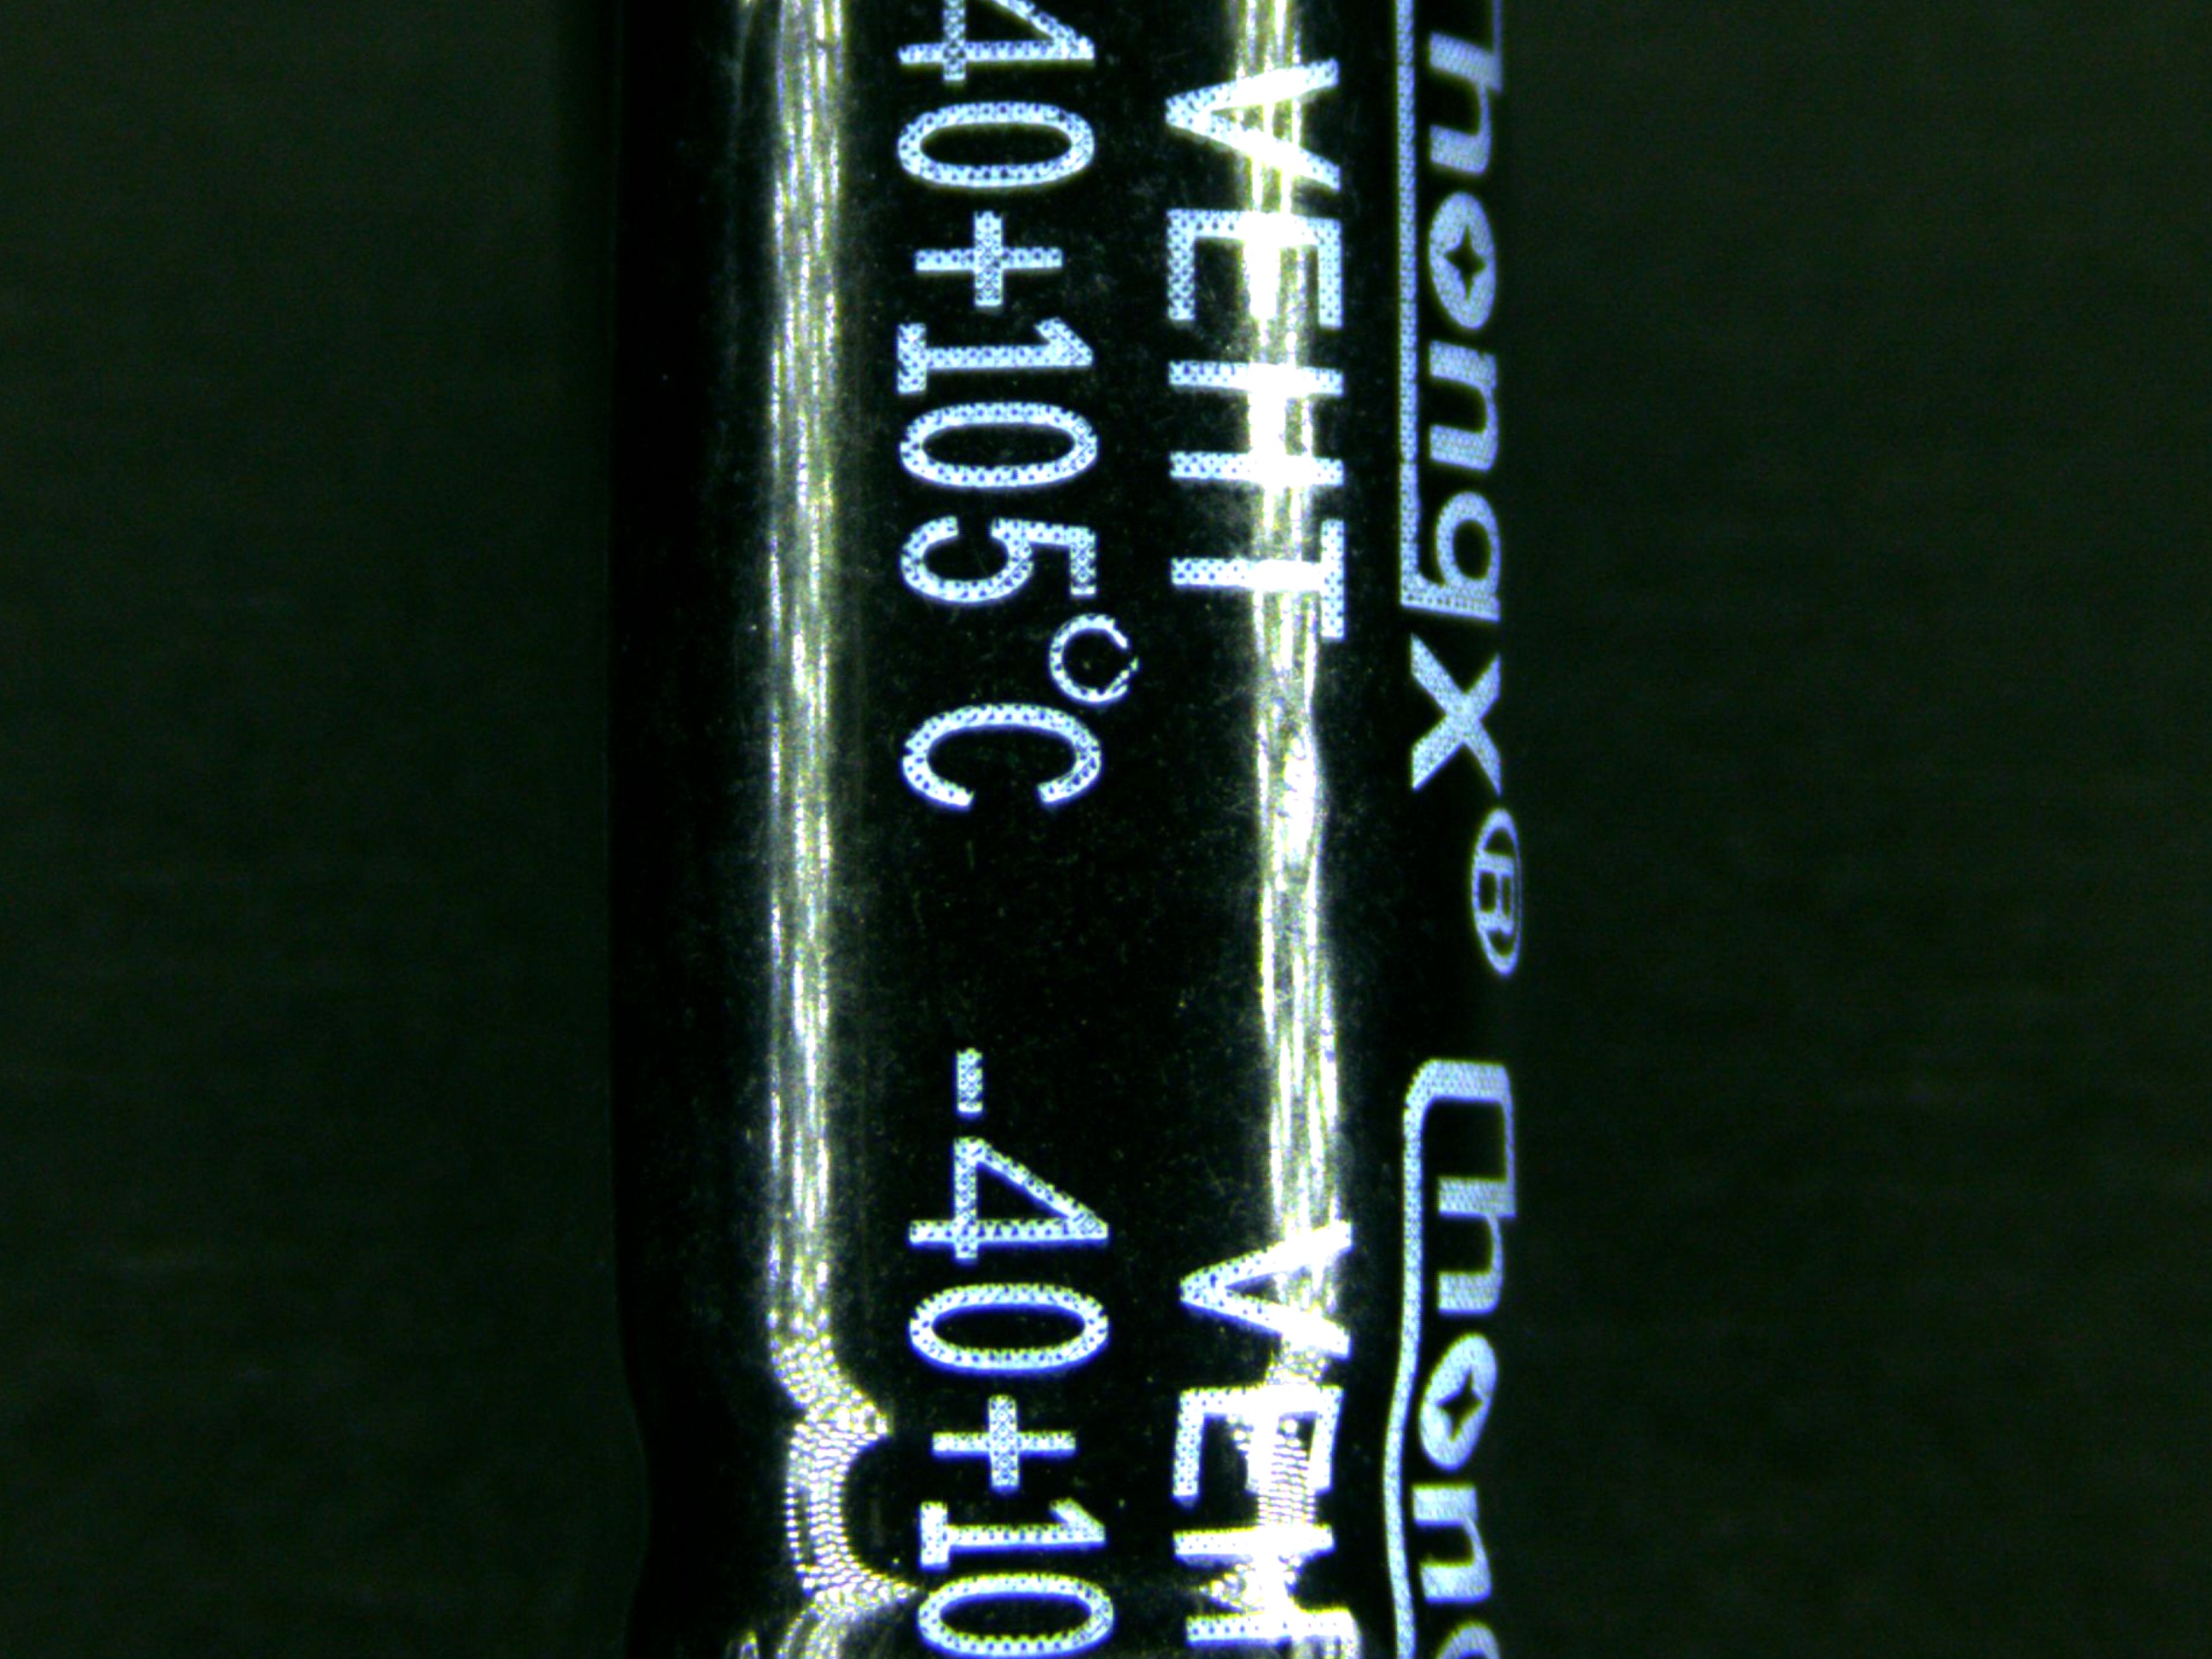c3: (568, 0, 1552, 1659)
